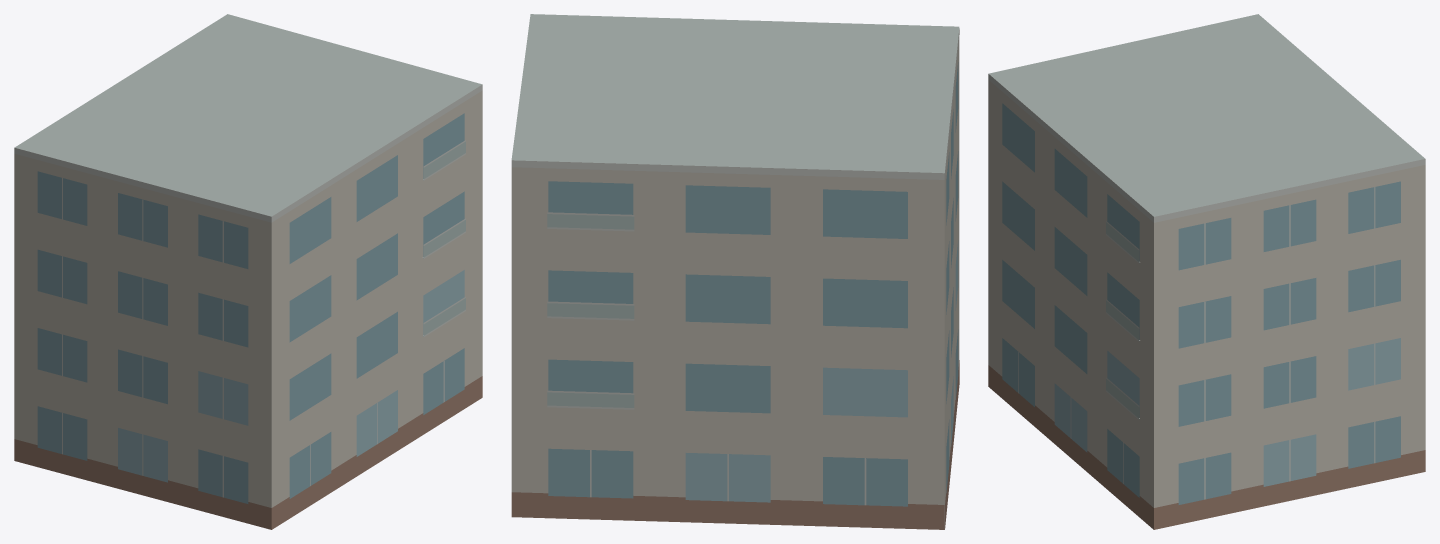
Rendered from survey-upis-32973701.glb.
3 renders of one model, left to right at view 1: azimuth 30°, elevation 25°; view 2: azimuth 150°, elevation 25°; view 3: azimuth 270°, elevation 25°, orthographic. The views are drawn at different scales.
Parts seen in each view (by area): view 1: survey-upis-32973701.tmp; view 2: survey-upis-32973701.tmp; view 3: survey-upis-32973701.tmp.
Boxes of the visible parts, x1,y1,x2,y2 form: survey-upis-32973701.tmp: (14,14,482,529); survey-upis-32973701.tmp: (511,14,959,529); survey-upis-32973701.tmp: (988,14,1425,529).
Size of the model in its own units: 17.8 by 12.8 by 16.21.
